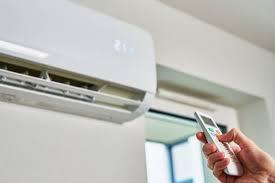air conditioner: (1, 0, 156, 124)
window: (143, 117, 232, 182)
